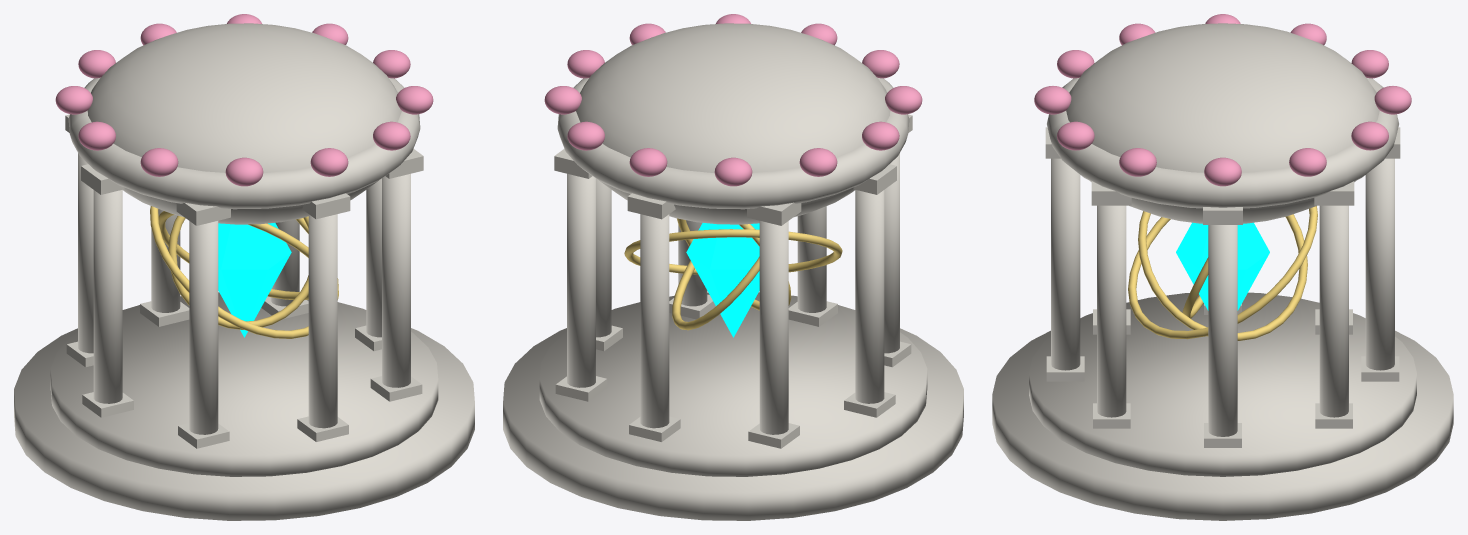
The model's file is sanctum_core_rotunda.glb.
3 renders of one model, left to right at view 1: azimuth 30°, elevation 25°; view 2: azimuth 150°, elevation 25°; view 3: azimuth 270°, elevation 25°, orthographic.
Visible parts, largest first — view 1: Cylinder.001, Sphere, Cylinder, Torus, Cylinder.008, Cylinder.006, Cylinder.007, Cylinder.009, Cylinder.005, Cone, Cone.001, Cylinder.002 (+23 smaller); view 2: Cylinder.001, Sphere, Cylinder, Torus, Cylinder.004, Cylinder.005, Cylinder.006, Cylinder.003, Cylinder.007, Cylinder.008, Cylinder.002, Cone (+22 smaller); view 3: Cylinder.001, Sphere, Cylinder, Torus, Cylinder.003, Cylinder.009, Cylinder.002, Cylinder.004, Cylinder.008, Torus.001, Torus.002, Cone (+19 smaller).
Boxes of the visible parts, bbox=[...] form: Cylinder.001: bbox=[50, 292, 438, 476]; Sphere: bbox=[87, 23, 401, 224]; Cylinder: bbox=[14, 328, 474, 520]; Torus: bbox=[68, 77, 420, 209]; Cylinder.008: bbox=[308, 214, 337, 428]; Cylinder.006: bbox=[93, 190, 122, 403]; Cylinder.007: bbox=[189, 221, 218, 434]; Cylinder.009: bbox=[382, 173, 410, 387]; Cylinder.005: bbox=[78, 153, 93, 353]; Cone: bbox=[218, 223, 291, 269]; Cone.001: bbox=[218, 253, 290, 337]; Cylinder.002: bbox=[366, 178, 381, 337]; Cylinder.001: bbox=[539, 292, 927, 476]; Sphere: bbox=[576, 23, 890, 224]; Cylinder: bbox=[503, 328, 963, 520]; Torus: bbox=[557, 77, 909, 209]; Cylinder.004: bbox=[640, 214, 669, 428]; Cylinder.005: bbox=[759, 221, 788, 434]; Cylinder.006: bbox=[855, 190, 884, 403]; Cylinder.003: bbox=[567, 173, 595, 387]; Cylinder.007: bbox=[884, 153, 899, 353]; Cylinder.008: bbox=[797, 206, 826, 312]; Cylinder.002: bbox=[596, 178, 611, 337]; Cone: bbox=[686, 223, 759, 269]; Cylinder.001: bbox=[1029, 292, 1416, 476]; Sphere: bbox=[1066, 23, 1379, 223]; Cylinder: bbox=[992, 330, 1453, 520]; Torus: bbox=[1047, 77, 1398, 208]; Cylinder.003: bbox=[1319, 205, 1348, 417]; Cylinder.009: bbox=[1097, 205, 1126, 417]; Cylinder.002: bbox=[1208, 225, 1237, 436]; Cylinder.004: bbox=[1365, 158, 1394, 370]; Cylinder.008: bbox=[1051, 158, 1080, 370]; Torus.001: bbox=[1128, 206, 1317, 339]; Torus.002: bbox=[1138, 211, 1307, 340]; Cone: bbox=[1176, 222, 1269, 269].
Size of the model in its own units: 4.4 by 3.93 by 4.4.
